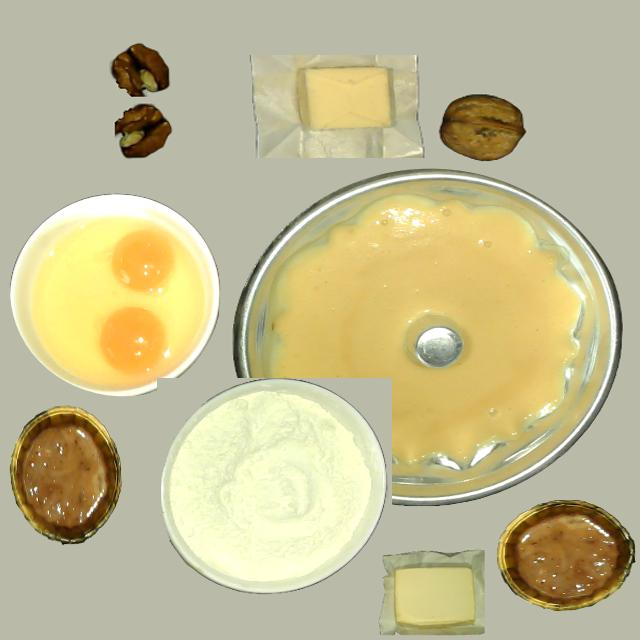Egg: (100, 308, 166, 374), (111, 230, 175, 292)
Flour: (161, 377, 378, 595)
Walnut: (439, 94, 525, 160)
